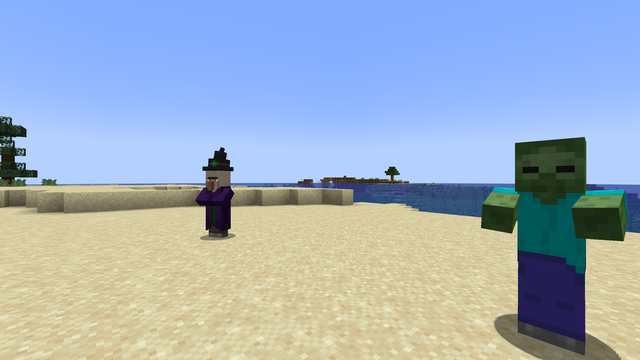sorcieres: (204, 167, 232, 239)
zombies: (506, 141, 595, 358)
